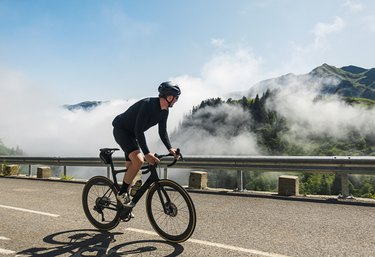Bicycle: (80, 147, 198, 244)
